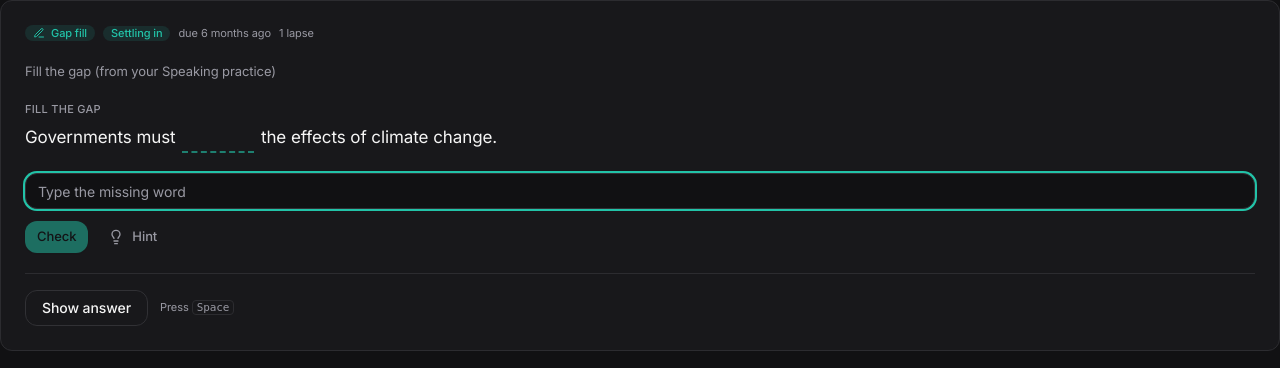
Test: ExerciseCard (cloze) › keeps the hint hidden until it is asked for
The image size is (1280, 368).
Expected: the text "Starts with" is not shown
Click the button "Hint". click: coordinates (133, 237)
box: [96,221,169,253]
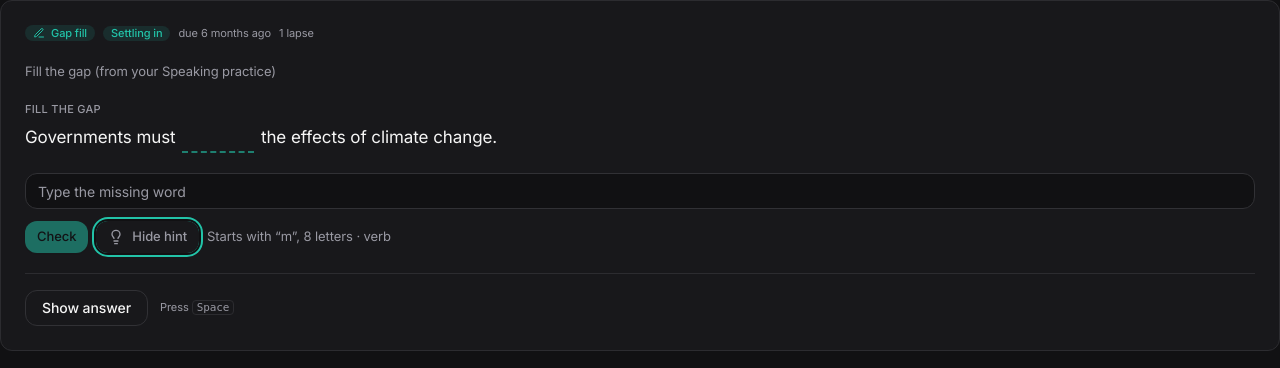
Now the text "Starts with “m”, 8 letters · verb" is shown, box [207,227,391,247]
